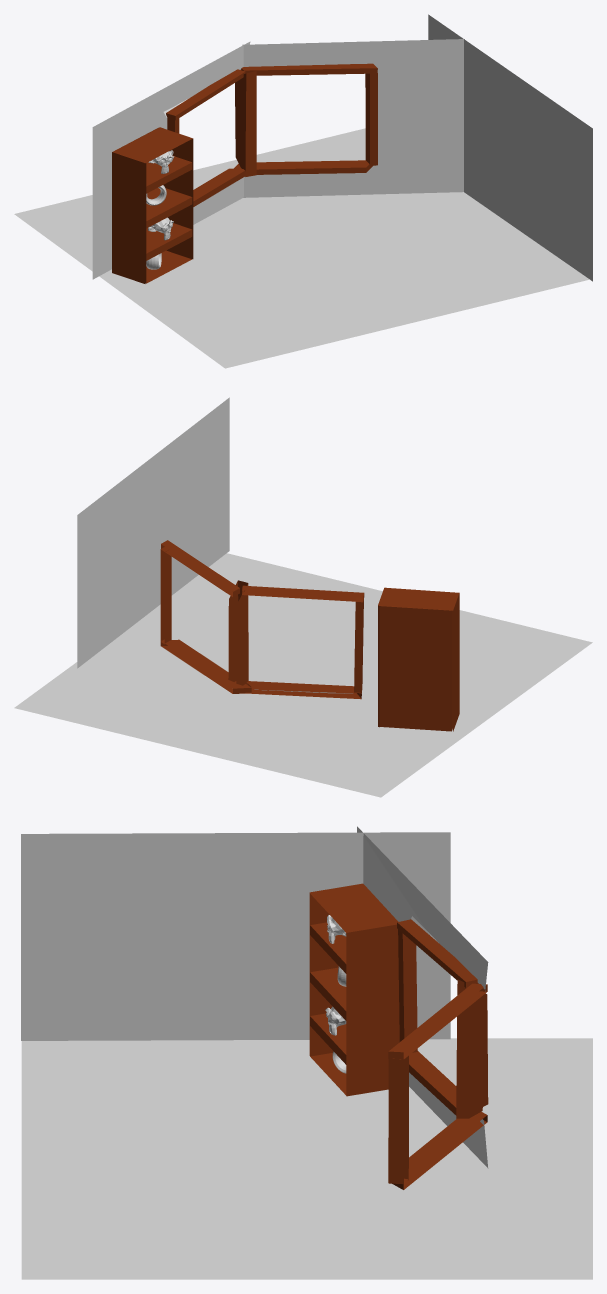
The model's file is portfolio2026v2.glb.
The picture shows the model from 3 angles, top to bottom: view 1: azimuth 30°, elevation 25°; view 2: azimuth 150°, elevation 25°; view 3: azimuth 270°, elevation 25°; orthographic projection. The views are drawn at different scales.
Visible parts, largest first — view 1: floor, rightWall, rightEndWall, leftEndWall, lw, Library.001, Library, Cube.001; view 2: floor, rightWall, Library, lw, Cube.001, Library.001; view 3: floor, leftWall, Library.001, lw, leftEndWall, Library, Cube.001.
Part boxes in pixels (x1,y1,x2,y2): floor: (14, 128, 589, 368); rightWall: (428, 14, 592, 281); rightEndWall: (242, 39, 464, 197); leftEndWall: (92, 41, 250, 279); lw: (234, 63, 377, 176); Library.001: (112, 127, 193, 283); Library: (145, 139, 192, 283); Cube.001: (166, 69, 245, 206); floor: (14, 553, 592, 797); rightWall: (77, 397, 229, 668); Library: (379, 606, 452, 731); lw: (160, 540, 251, 693); Cube.001: (239, 585, 364, 699); Library.001: (378, 587, 459, 731); floor: (21, 1038, 592, 1279); leftWall: (21, 832, 450, 1040); Library.001: (309, 883, 399, 1096); lw: (388, 979, 488, 1189); leftEndWall: (357, 826, 488, 1168); Library: (310, 893, 346, 1095); Cube.001: (397, 919, 478, 1115).
Size of the model in its own units: 20.47 by 8.04 by 20.28.
